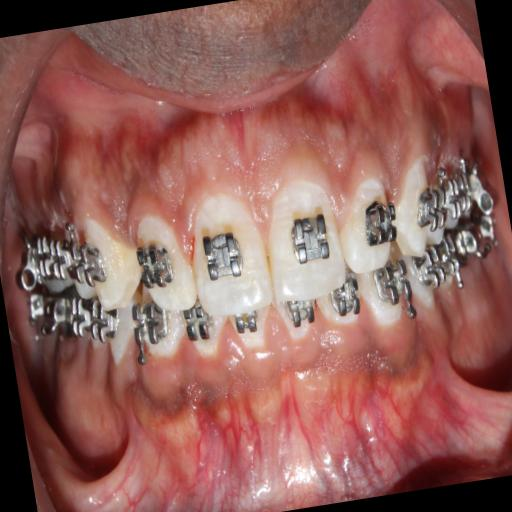correct_brace: (281, 202, 332, 272), (198, 225, 248, 289), (133, 234, 177, 296), (358, 191, 400, 254), (69, 238, 110, 292), (411, 178, 448, 232)
incorrect_brace: (130, 206, 202, 325), (330, 167, 399, 278)
